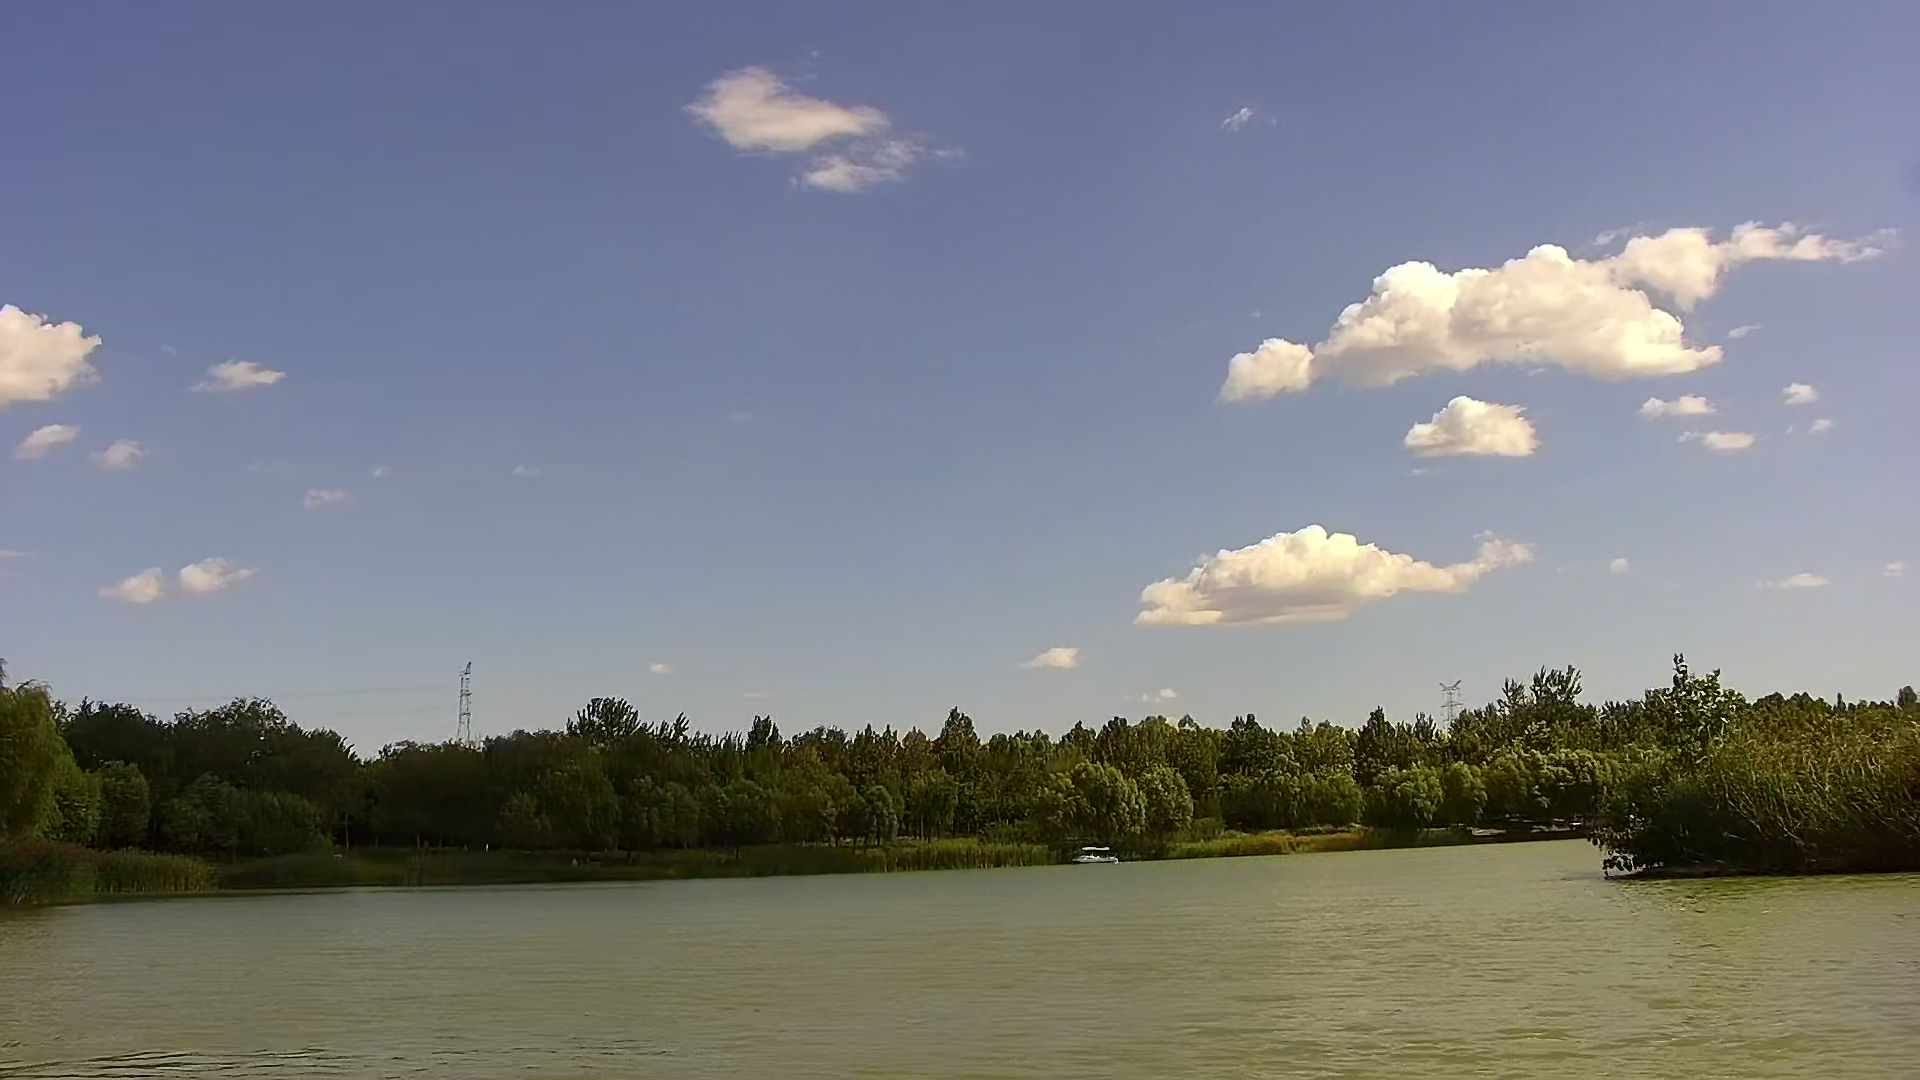boat: (1073, 845, 1121, 866)
